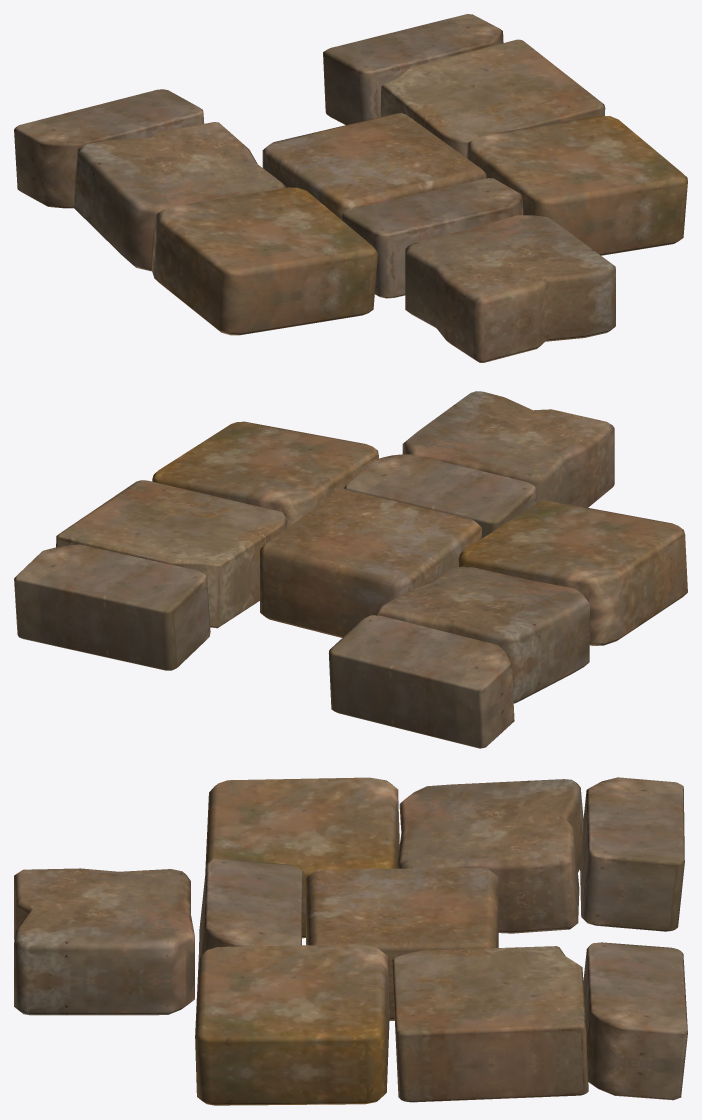
3 views of the same model, one above another, from view 1: azimuth 30°, elevation 25°; view 2: azimuth 150°, elevation 25°; view 3: azimuth 270°, elevation 25° (orthographic). The views are drawn at different scales.
Parts seen in each view (by area): view 1: SM_DK_Path_01_V2_LOD0; view 2: SM_DK_Path_01_V2_LOD0; view 3: SM_DK_Path_01_V2_LOD0.
Boxes of the visible parts, x1,y1,x2,y2 form: SM_DK_Path_01_V2_LOD0: (14,14,687,362); SM_DK_Path_01_V2_LOD0: (14,391,687,748); SM_DK_Path_01_V2_LOD0: (14,777,687,1105).
Size of the model in its own units: 4.03 by 0.6701 by 4.52.
1 material, 1 textured.
